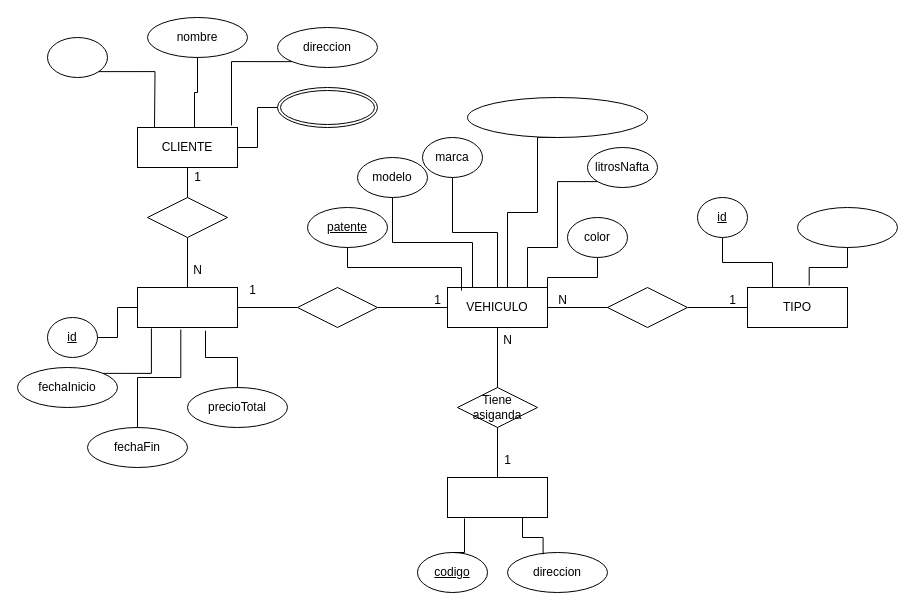
This 915x610 diagram has some shape labels left out. The centre of each missing label's shape, as x and y in pixels:
"COCHERA" belongs at [497,497].
"Contiene" belongs at [337,307].
"Corresponde a" belongs at [647,307].
"descripcion" belongs at [847,227].
"dni" belongs at [77,57].
"precioAlquilerVehuculo" belongs at [557,117].
"Realiza" belongs at [187,217].
"RESERVA" belongs at [187,307].
"telefono" belongs at [327,107].
